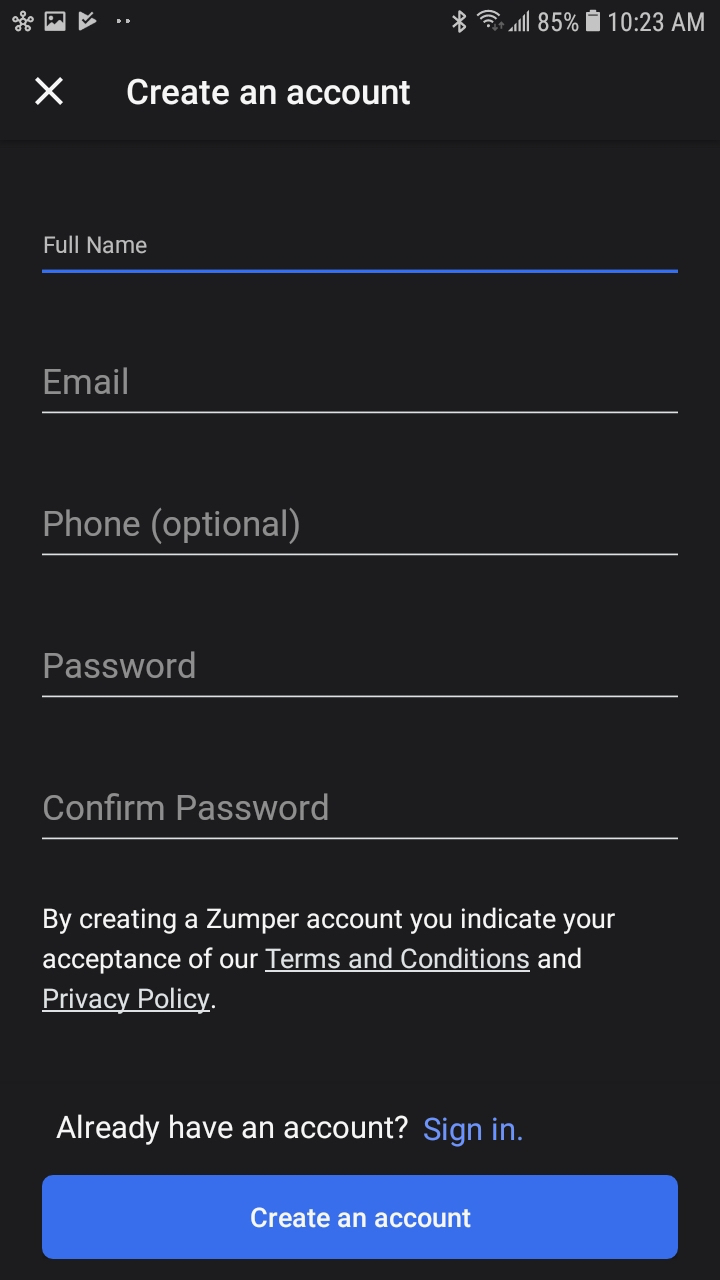EditText: (42, 507, 679, 557), (42, 792, 679, 841), (42, 651, 679, 699), (42, 367, 679, 415), (42, 235, 679, 275)
Icon: (36, 77, 65, 107)
Text: (42, 907, 616, 1014), (56, 1113, 523, 1148), (46, 507, 301, 545), (44, 793, 328, 823), (127, 79, 410, 106), (45, 651, 196, 680), (45, 368, 129, 396), (44, 235, 148, 255)
TextButton: (43, 1175, 679, 1260)
UpperTaskBar: (1, 1, 720, 34)
